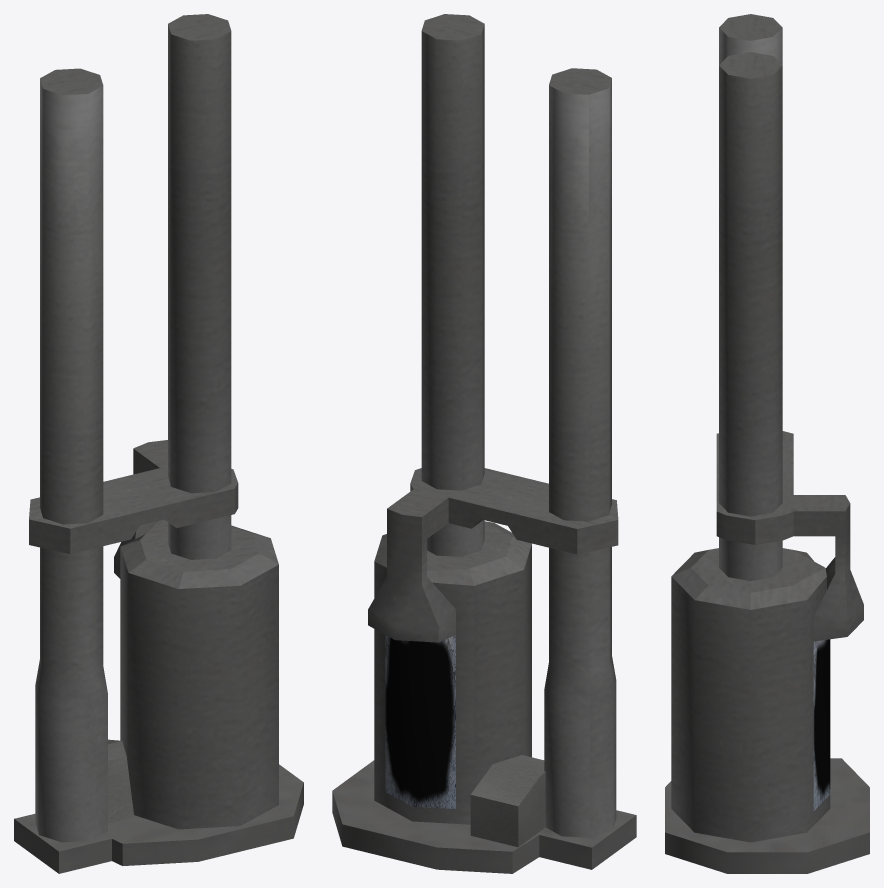
File: cryotube.glb
3 renders of one model, left to right at view 1: azimuth 30°, elevation 25°; view 2: azimuth 150°, elevation 25°; view 3: azimuth 270°, elevation 25°, orthographic. The views are drawn at different scales.
Visible parts, largest first — view 1: CSGCylinder3D32, CSGCylinder3D24; view 2: CSGCylinder3D32, CSGCylinder3D24; view 3: CSGCylinder3D32, CSGCylinder3D24.
Part boxes in pixels (bbox=[...]): CSGCylinder3D32: bbox=[14, 14, 303, 873]; CSGCylinder3D24: bbox=[29, 440, 238, 578]; CSGCylinder3D32: bbox=[332, 14, 636, 873]; CSGCylinder3D24: bbox=[368, 468, 618, 808]; CSGCylinder3D32: bbox=[665, 14, 869, 873]; CSGCylinder3D24: bbox=[716, 431, 863, 810].
Bounding box in the file's own units: 3.66 × 10.63 × 2.58.
2 materials, 2 textured.
